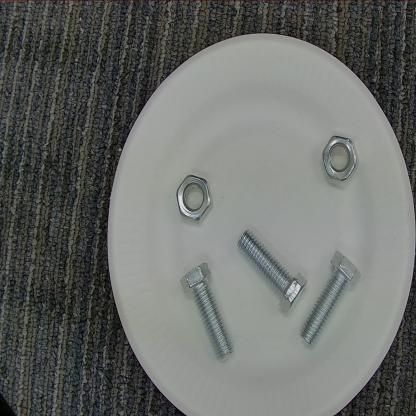FOD: (235, 224, 309, 318), (298, 246, 363, 350), (177, 260, 236, 367), (320, 126, 366, 192), (174, 171, 214, 227)
